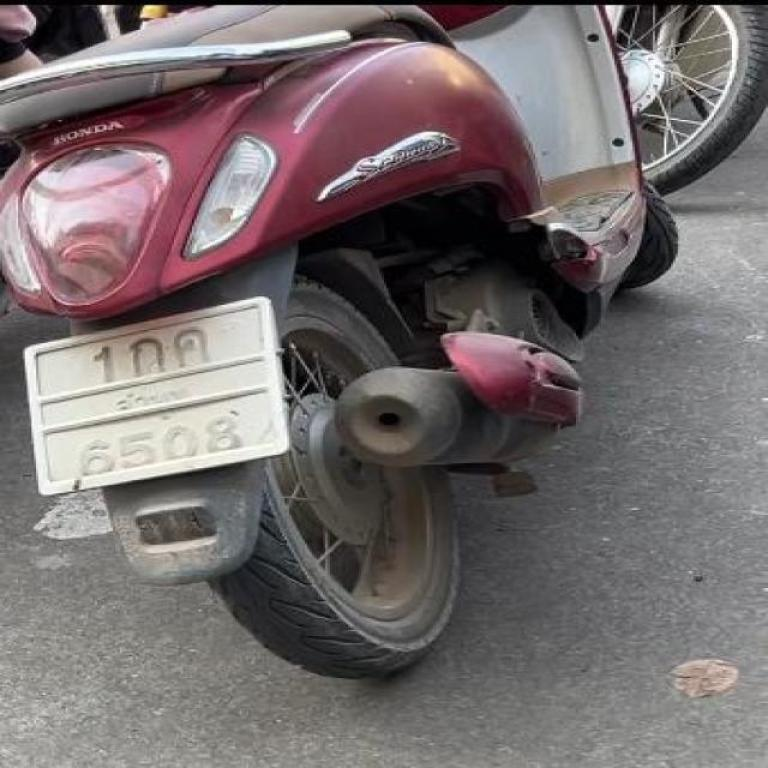license plate: (25, 299, 287, 493)
